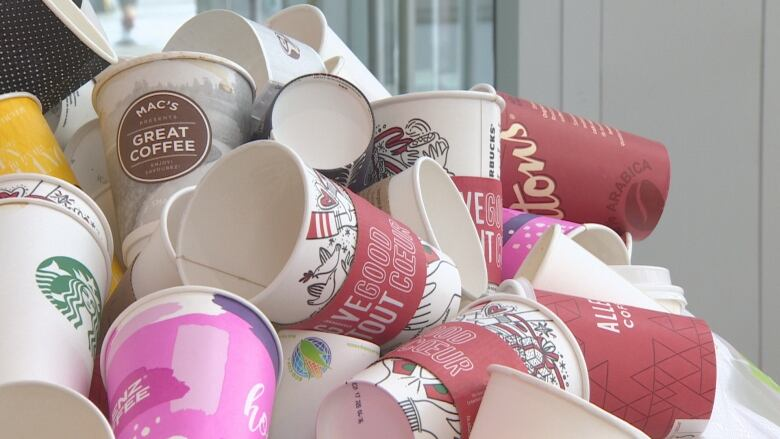cup: (169, 136, 469, 350), (83, 46, 261, 229), (92, 281, 290, 439), (370, 91, 519, 299), (0, 192, 114, 399)
